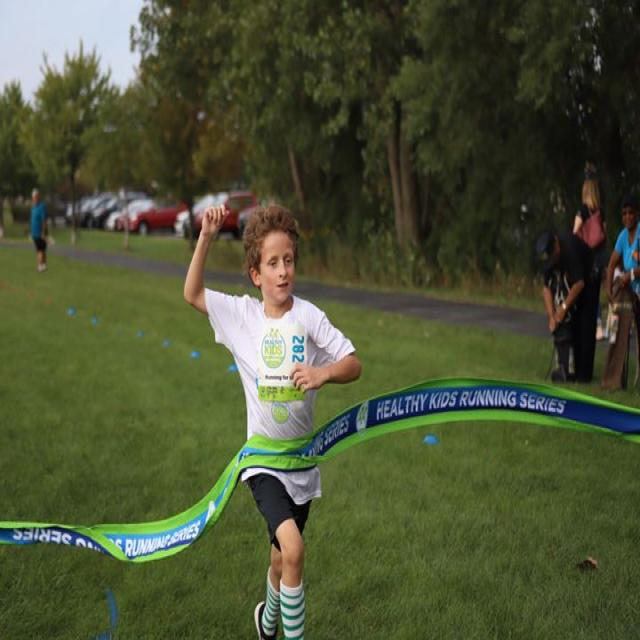Person: (185, 201, 363, 640), (536, 228, 600, 382), (607, 198, 640, 390), (32, 186, 48, 274)
